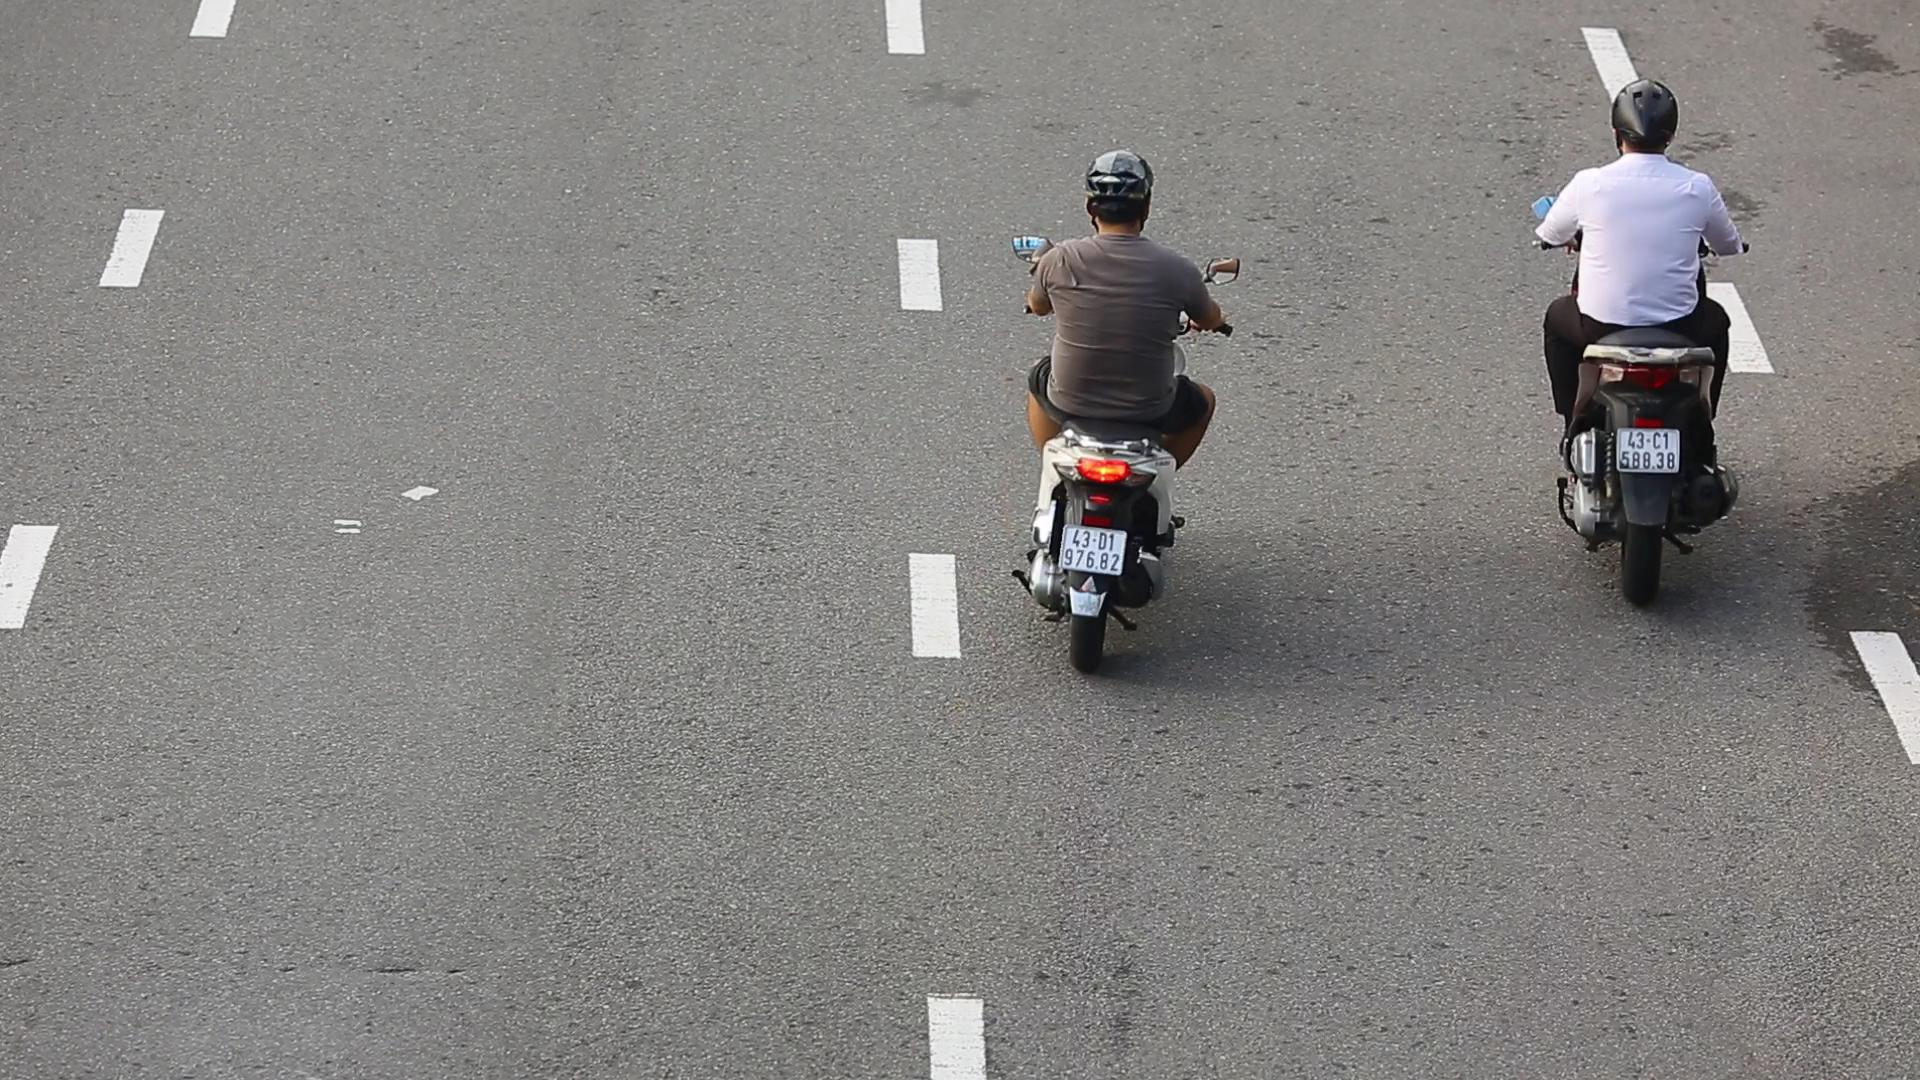motobike: (1515, 61, 1758, 636), (1004, 131, 1236, 711)
